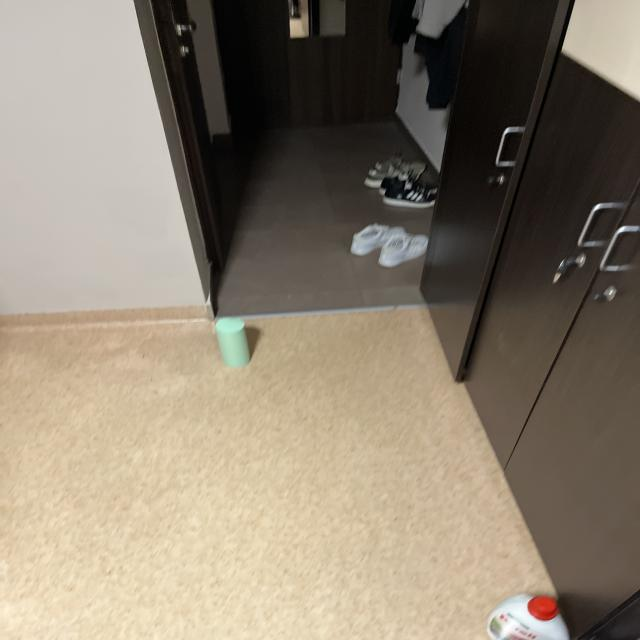meta: (215, 317, 250, 368)
